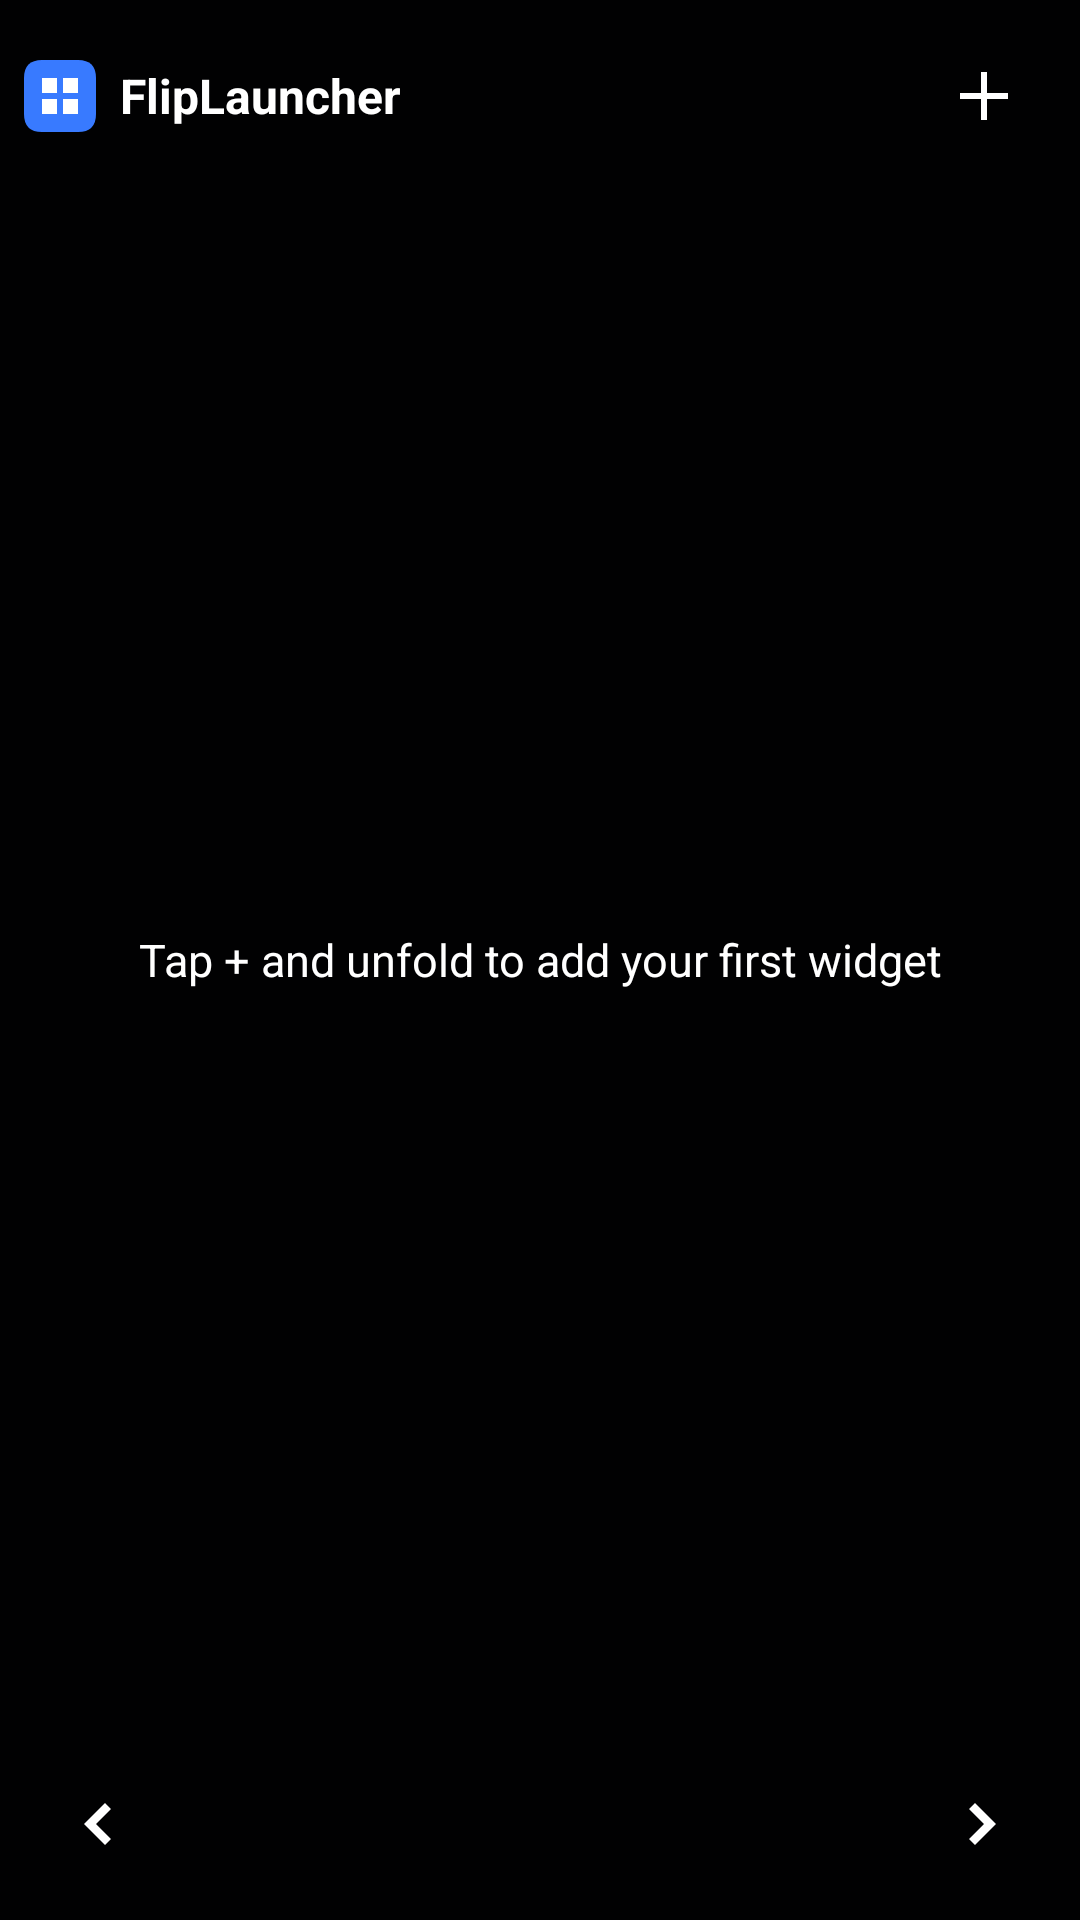

Where to tap for icons on this 1080*1920 app screen, as point (x, y):
Edit apps and widgets on the phone: point (984, 96)
Next widget screen: point (982, 1824)
Previous widget screen: point (97, 1824)
widget mark: point (60, 96)
